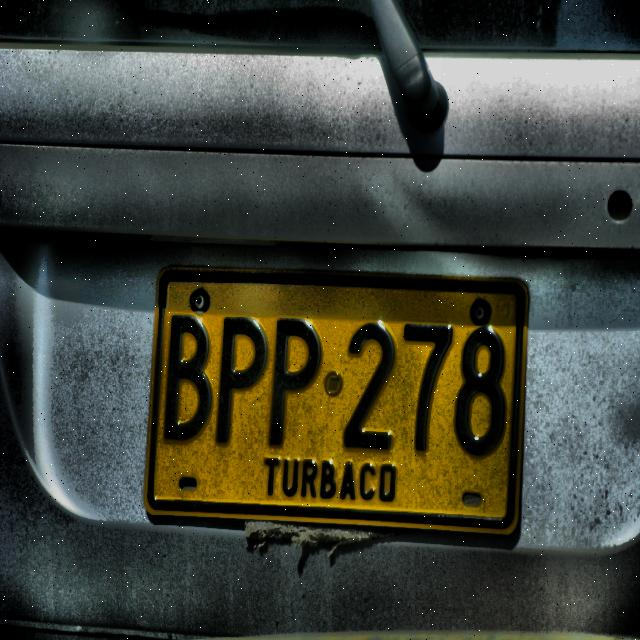2: (337, 317, 402, 454)
7: (394, 315, 461, 454)
8: (448, 321, 512, 463)
B: (158, 311, 220, 451)
P: (211, 313, 275, 454), (263, 314, 327, 451)
